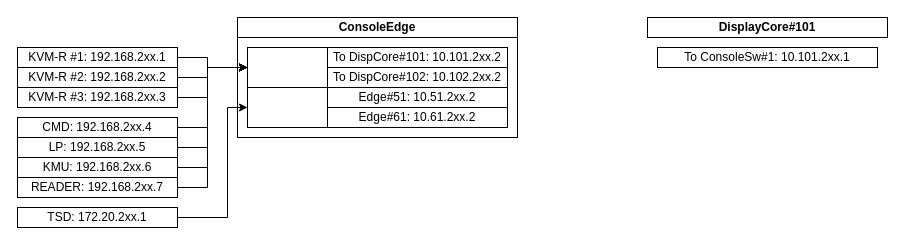
Image size: 905x245. Some labels were removed from this diagram. Each missing label, with the centre of its shape:
"DispVLAN" belongs at (287,67).
"TacVLAN" belongs at (287,107).
